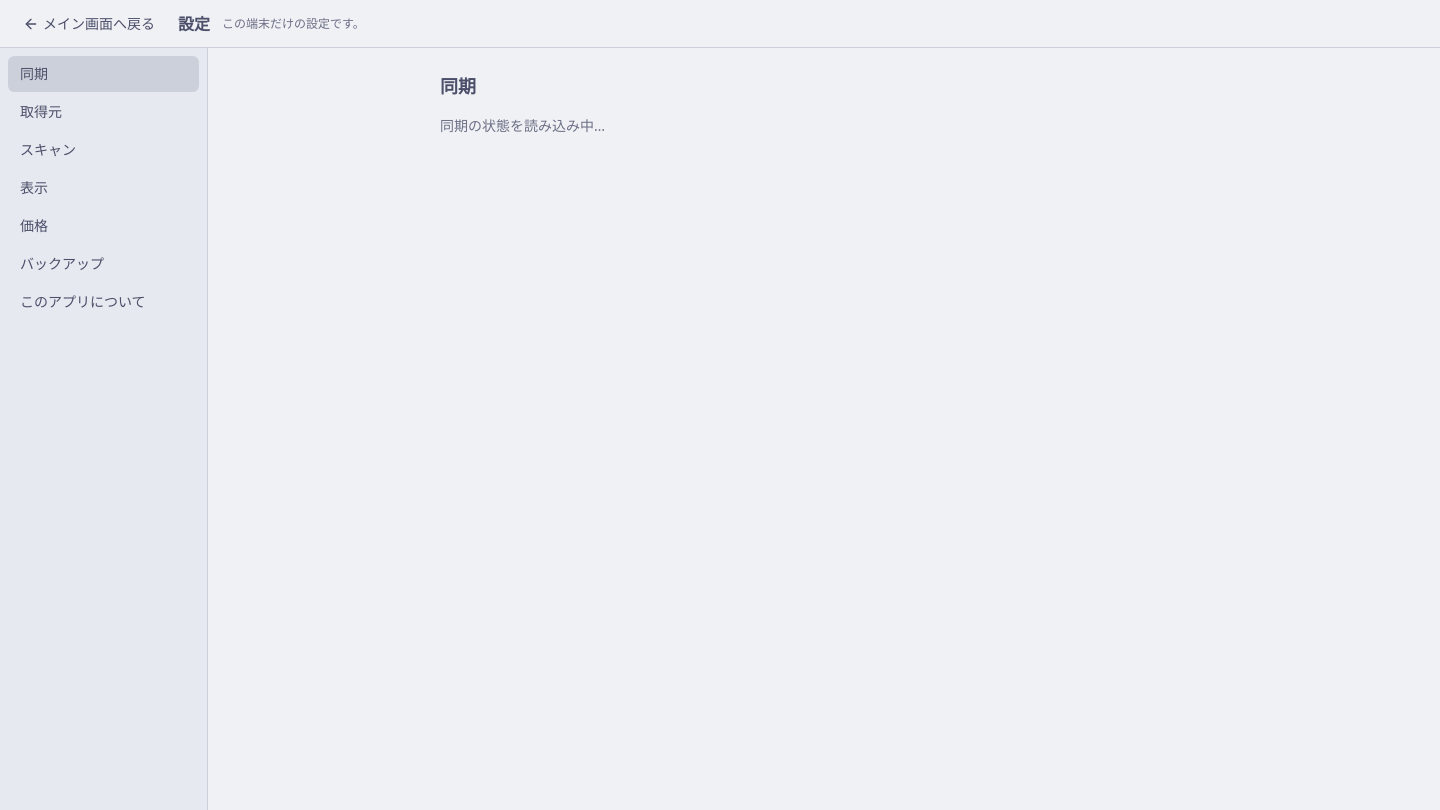
Test: 設定画面の骨組み › 左に 7 つの節の一覧、右に選んだ節の内容。節を選ぶと切り替わる
Expected: the button "同期" is shown, top-left (8, 56), bottom-right (199, 92)
Expected: the button "取得元" is shown, top-left (8, 94), bottom-right (199, 130)
Click the button "価格".
click(104, 226)  # box top-left (8, 208), bottom-right (199, 244)
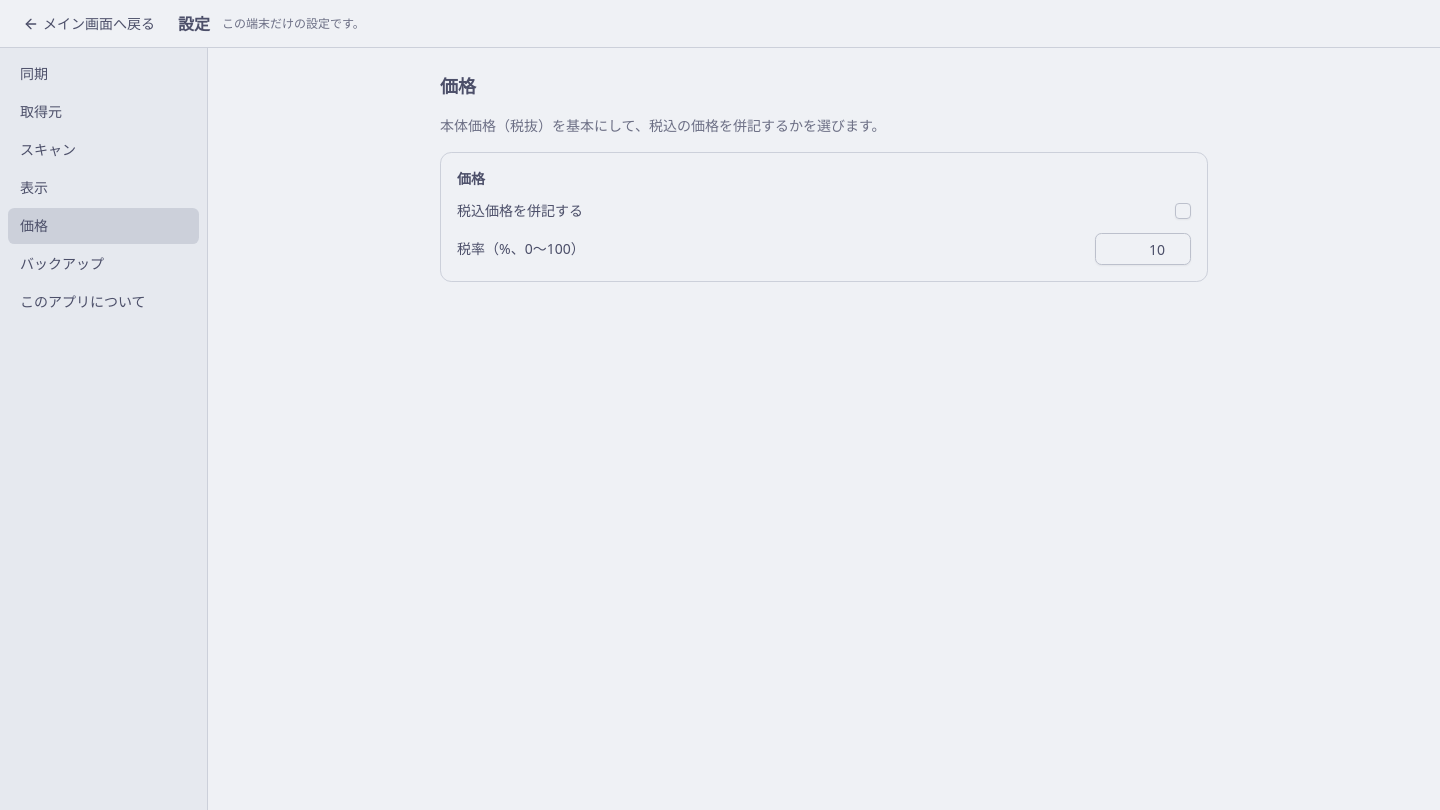
Now the checkbox named "税込価格を併記する" is shown, box top-left (1175, 203), bottom-right (1191, 219)
